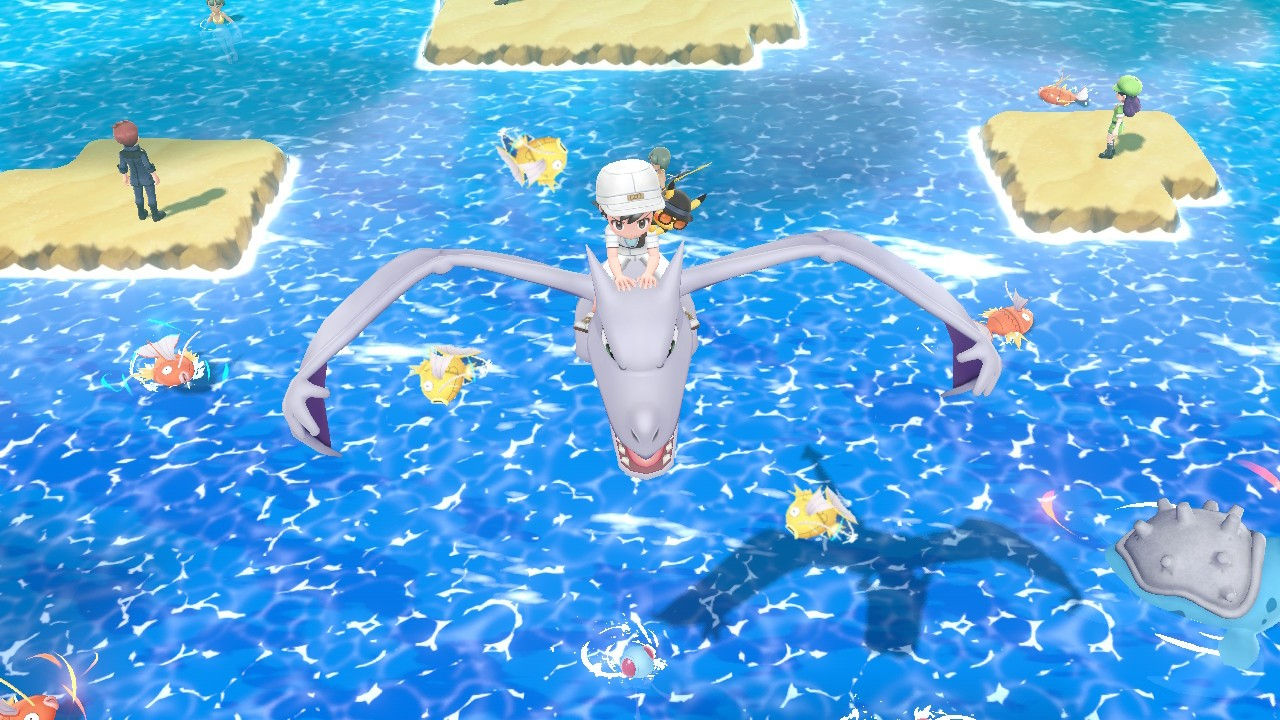Golden: (404, 343, 490, 411), (496, 129, 570, 197), (783, 483, 856, 544)
